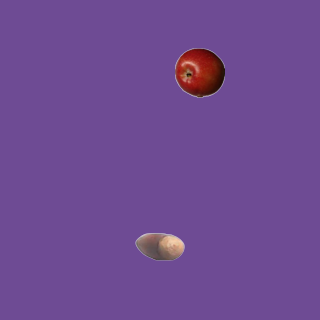Apple Braeburn: (174, 47, 224, 97)
Hazelnut: (134, 221, 184, 271)
